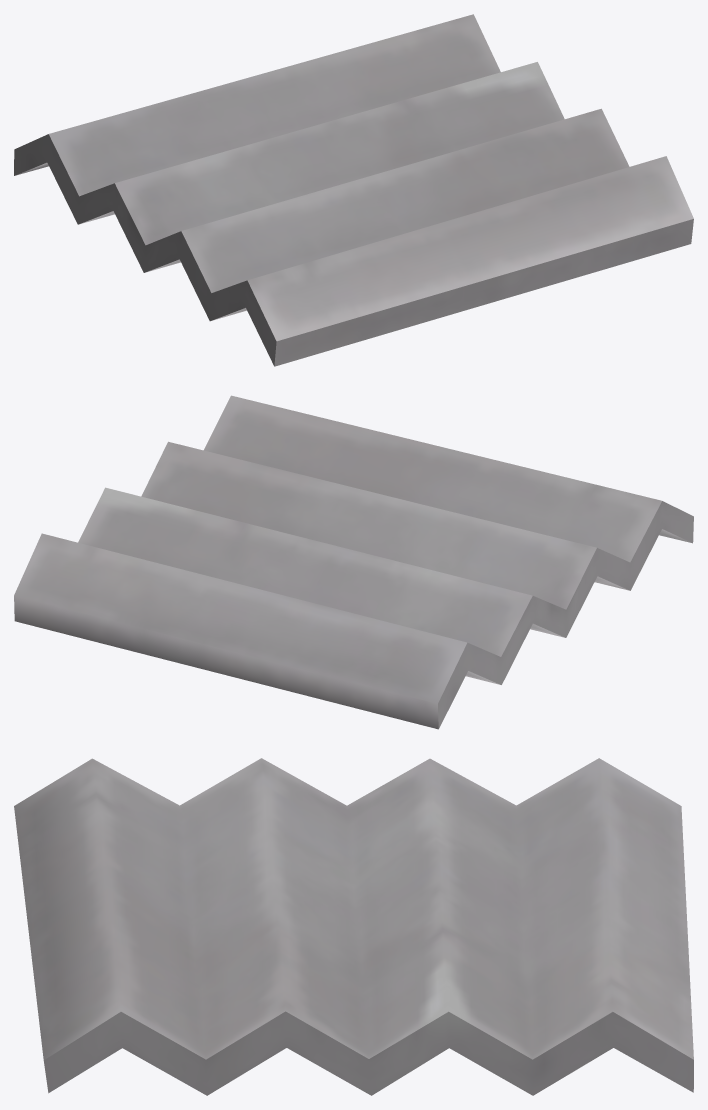
The model's file is Pfb_MetalBoard__8.fbx.
The picture shows the model from 3 angles, top to bottom: view 1: azimuth 30°, elevation 25°; view 2: azimuth 150°, elevation 25°; view 3: azimuth 270°, elevation 25°; orthographic projection. The views are drawn at different scales.
Parts seen in each view (by area): view 1: Mat_MetalBoard_01_1 1; view 2: Mat_MetalBoard_01_1 1; view 3: Mat_MetalBoard_01_1 1.
Boxes of the visible parts, box(x1,y1,x2,y2) form: Mat_MetalBoard_01_1 1: box(14, 14, 693, 366); Mat_MetalBoard_01_1 1: box(14, 395, 693, 729); Mat_MetalBoard_01_1 1: box(14, 758, 693, 1095).
Bounding box in the file's own units: 0.8192 × 0.1397 × 0.8748.
1 material, 1 textured.
